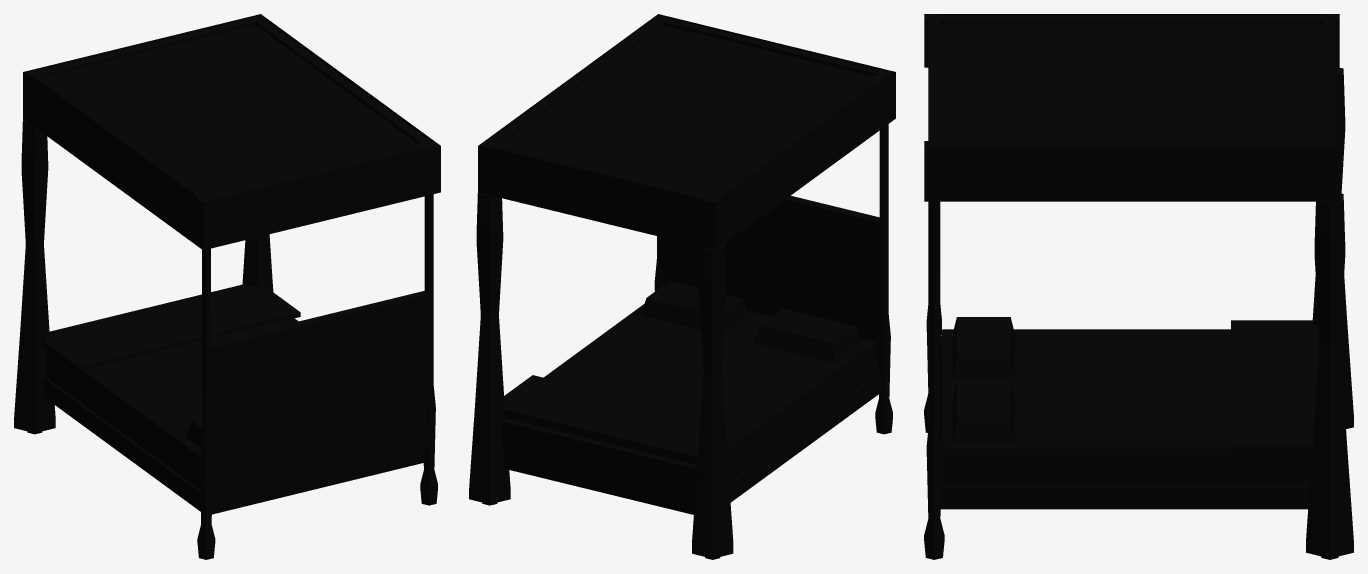
The model's file is SM_bed_four_poster.fbx.
The picture shows the model from 3 angles, left to right: view 1: azimuth 30°, elevation 25°; view 2: azimuth 150°, elevation 25°; view 3: azimuth 270°, elevation 25°; orthographic projection. The views are drawn at different scales.
Visible parts, largest first — view 1: bed_four_poster; view 2: bed_four_poster; view 3: bed_four_poster.
Boxes of the visible parts, left/top/right/bottom form: bed_four_poster: left=14, top=14, right=440, bottom=559; bed_four_poster: left=469, top=14, right=895, bottom=559; bed_four_poster: left=924, top=14, right=1353, bottom=559.
Bounding box in the file's own units: 1.78 × 2.3 × 2.17.
